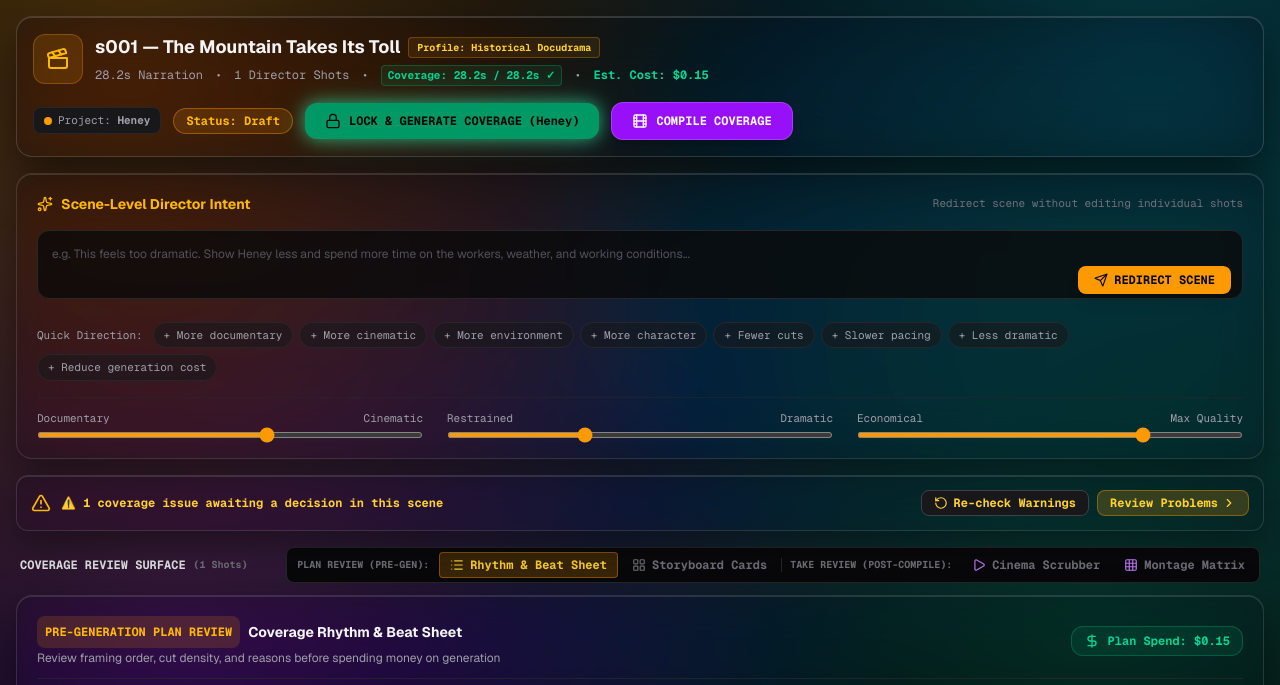
the re-check covers the scene, and only runs once at a time › a new run clears the previous outcome rather than stacking on it
The image size is (1280, 685).
Click the button with test id "recheck-warnings" at [1005, 503], box [921, 490, 1089, 516]
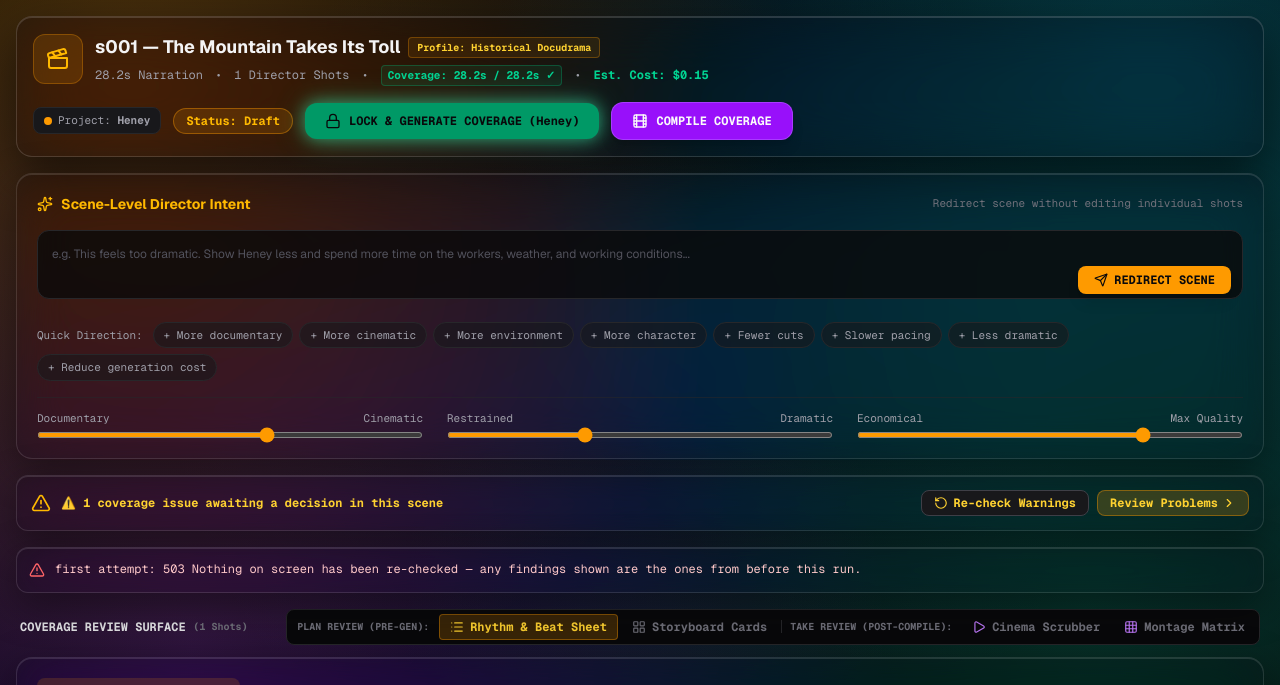
Click the button with test id "recheck-warnings" at [1005, 503], box [921, 490, 1089, 516]
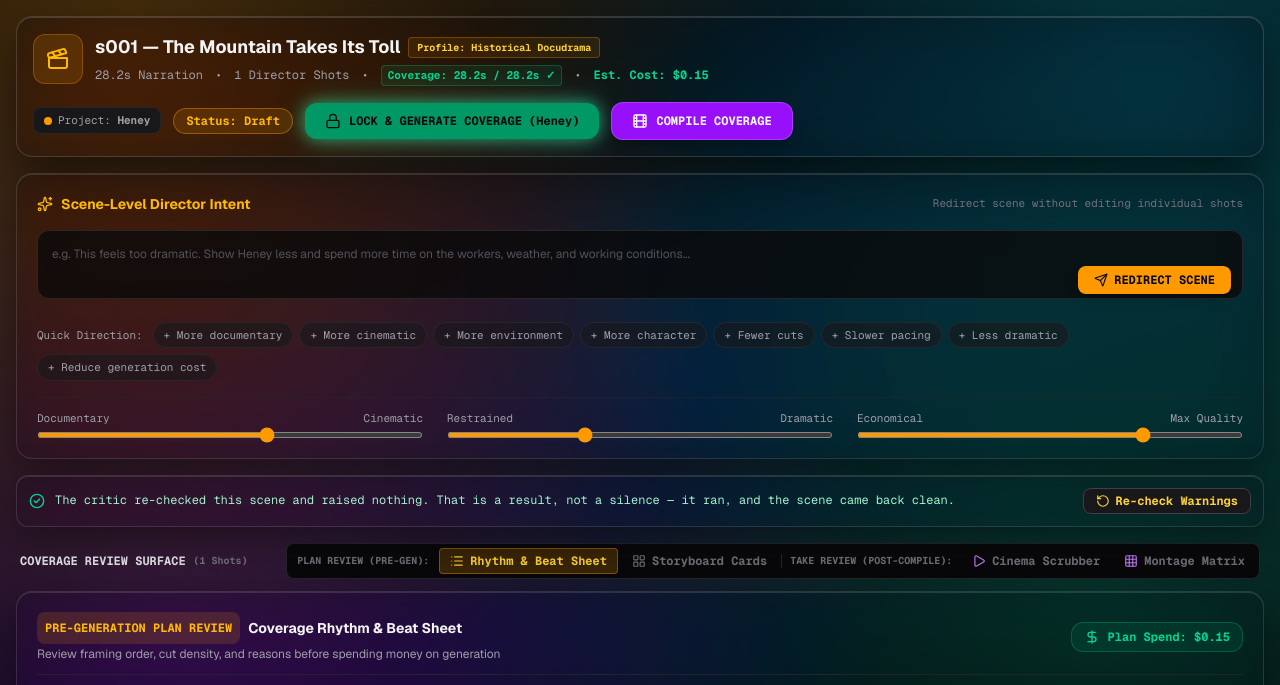
Expected: the text with test id "critique-outcome" no longer shows "first attempt: 503"
